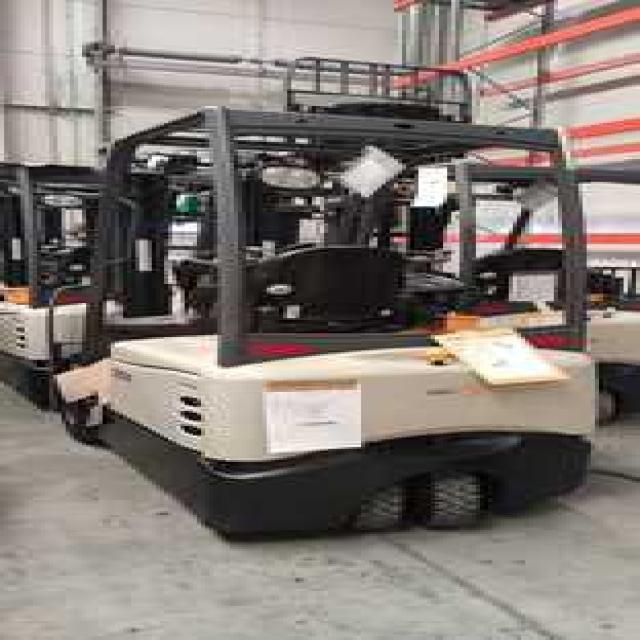forklift: (9, 77, 616, 582)
